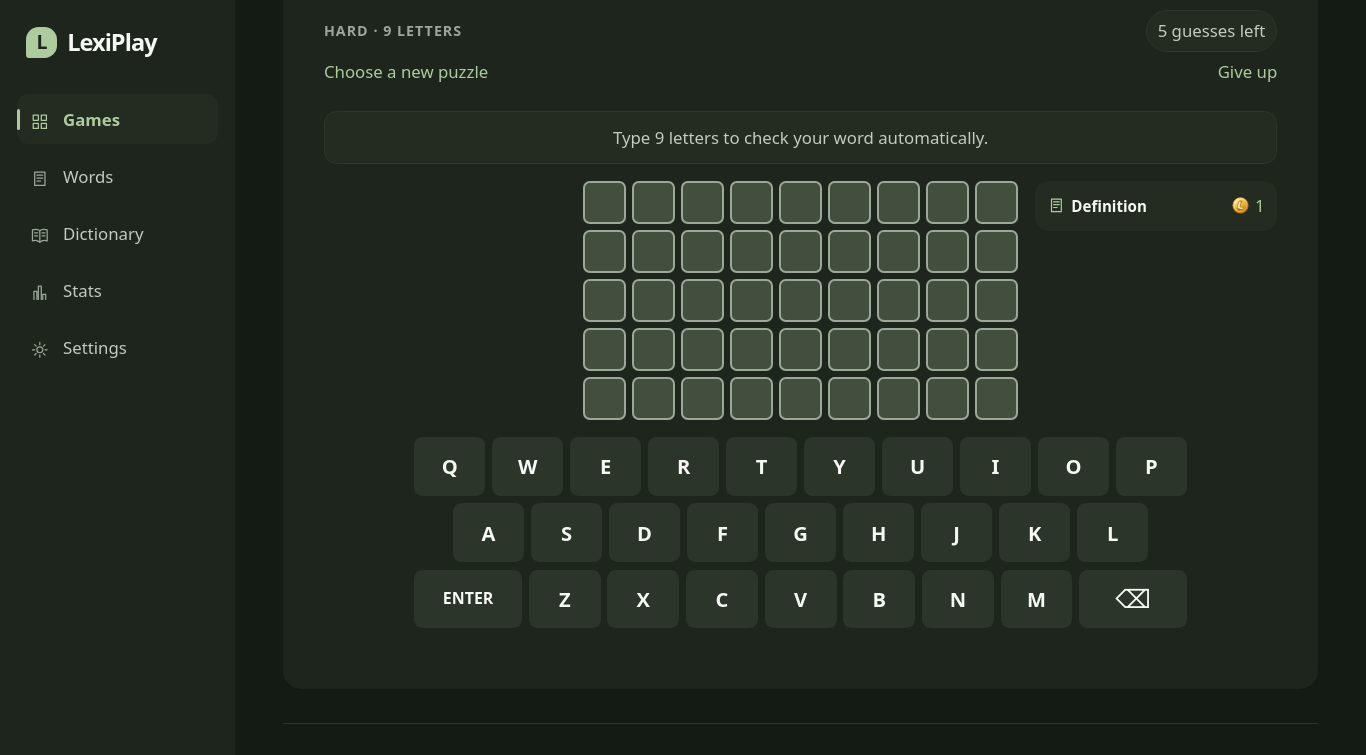
it: saved practice and account updates › refreshes the coin badge after a purchase and leaves failed hints available
(page scrolled)
Click the button "Definition 1": (1156, 206) [1035, 181, 1277, 231]
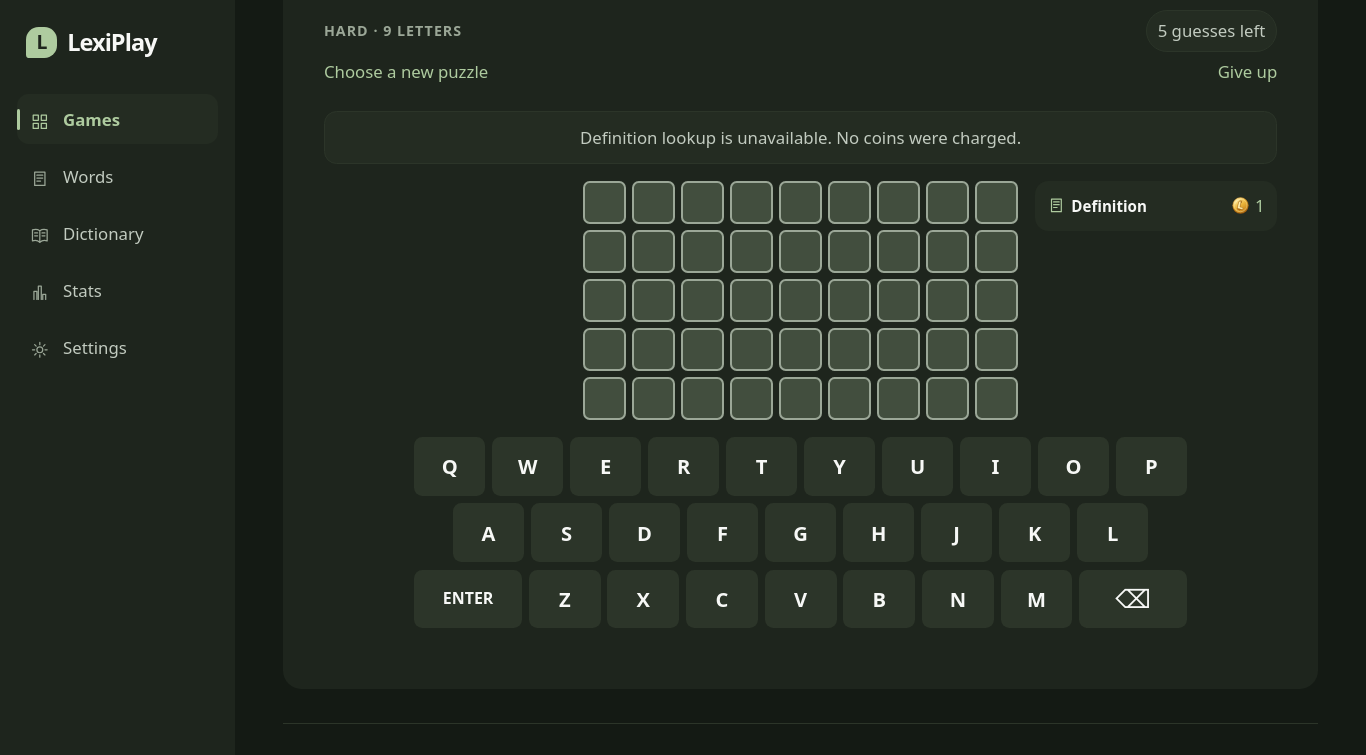
Result: the text "Definition lookup is unavailable. No coins were charged." is shown at [324, 112, 1277, 164]
Click the button "Definition 1": (1156, 206) [1035, 181, 1277, 231]
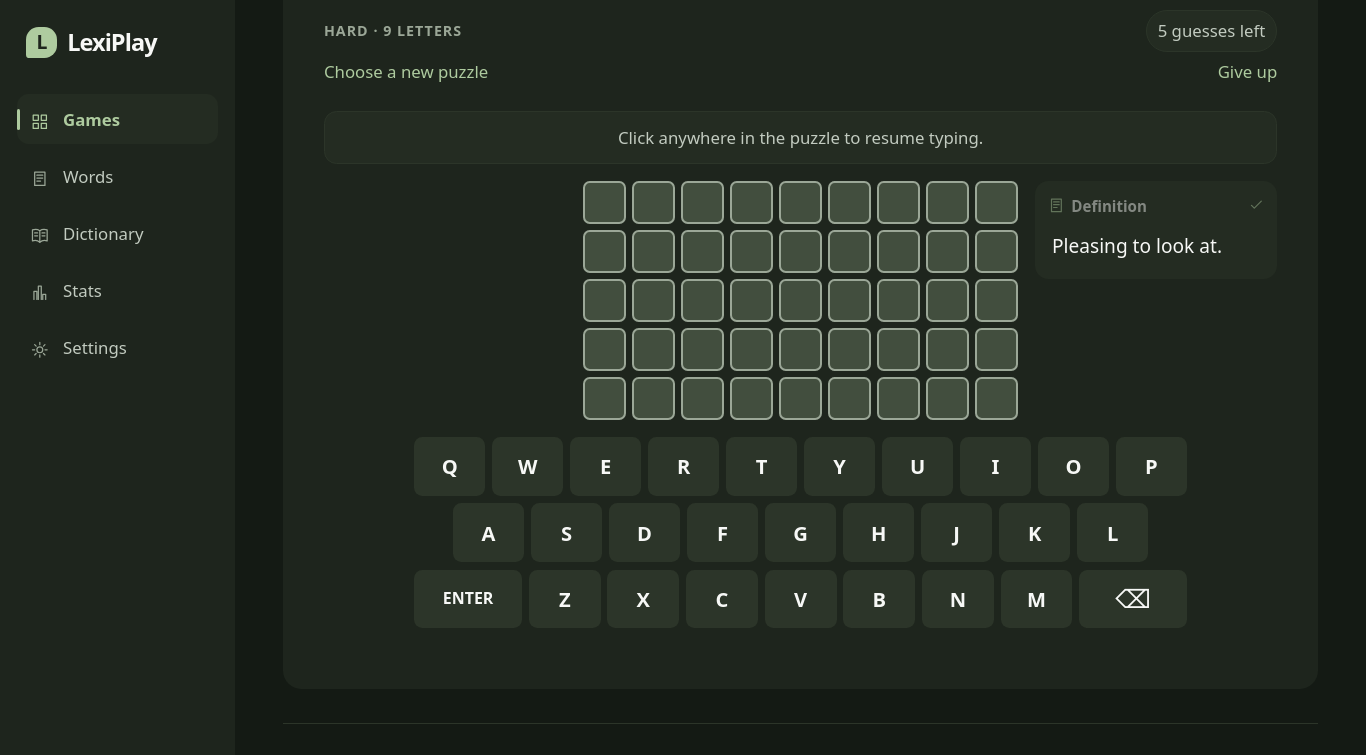
Expected: the element named "Definition hint" does not show "Often admired", [1035, 181, 1277, 279]
Result: the element named "Definition hint" shows "Pleasing to look at." at [1052, 233, 1222, 259]
Result: the button "Definition" is disabled at [1035, 181, 1277, 231]
